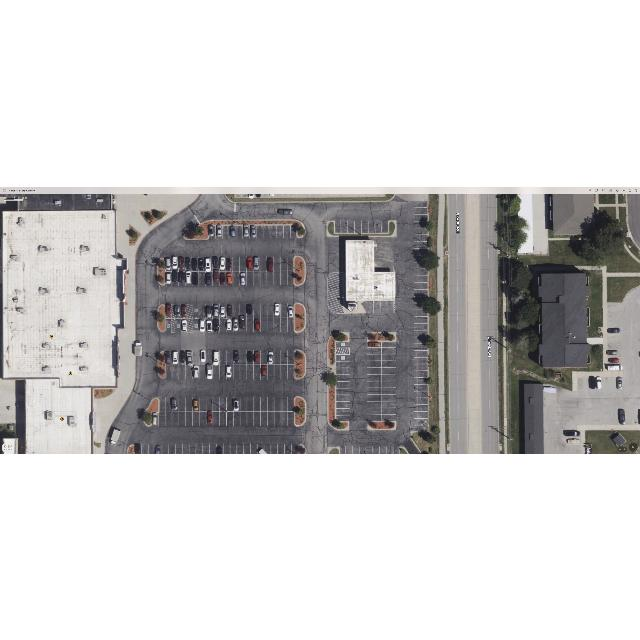Empty: (336, 374, 350, 382), (336, 380, 350, 388), (368, 394, 382, 402), (414, 322, 428, 330), (354, 220, 362, 232), (340, 220, 348, 232), (193, 318, 199, 332), (175, 318, 181, 332), (382, 354, 396, 360), (382, 361, 396, 367), (382, 367, 396, 373), (382, 374, 396, 380), (336, 341, 350, 347), (336, 355, 350, 361), (368, 402, 382, 408), (368, 388, 382, 394), (368, 381, 382, 387), (368, 374, 382, 380), (367, 368, 381, 374), (368, 361, 382, 367), (414, 378, 428, 384), (414, 384, 428, 390), (414, 391, 428, 397), (414, 405, 428, 411), (414, 412, 428, 418), (414, 364, 428, 370), (414, 350, 428, 356), (336, 368, 349, 374), (362, 220, 368, 232), (369, 220, 375, 232), (375, 220, 381, 232), (348, 220, 354, 232), (414, 337, 426, 343), (194, 304, 198, 318), (166, 318, 170, 332)
Parked: (192, 397, 200, 411), (226, 365, 234, 379), (185, 350, 192, 366), (205, 364, 212, 380), (226, 303, 234, 317), (233, 397, 240, 411), (261, 364, 267, 380), (206, 412, 212, 426), (172, 397, 178, 411), (234, 350, 240, 364), (247, 350, 253, 364), (254, 350, 260, 364), (213, 350, 219, 364), (200, 350, 206, 364), (192, 365, 198, 379), (173, 351, 179, 365), (206, 318, 212, 332), (213, 318, 219, 332), (227, 318, 233, 332), (233, 318, 239, 332), (254, 317, 260, 331), (274, 303, 280, 317), (268, 351, 274, 364), (155, 444, 161, 454)
